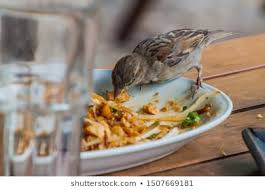home_sparrow: (109, 24, 248, 103)
